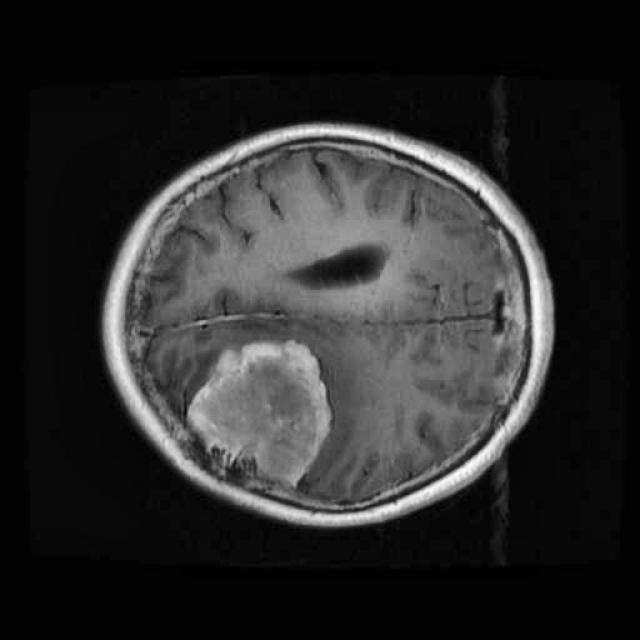Tumor: (174, 324, 340, 511)
